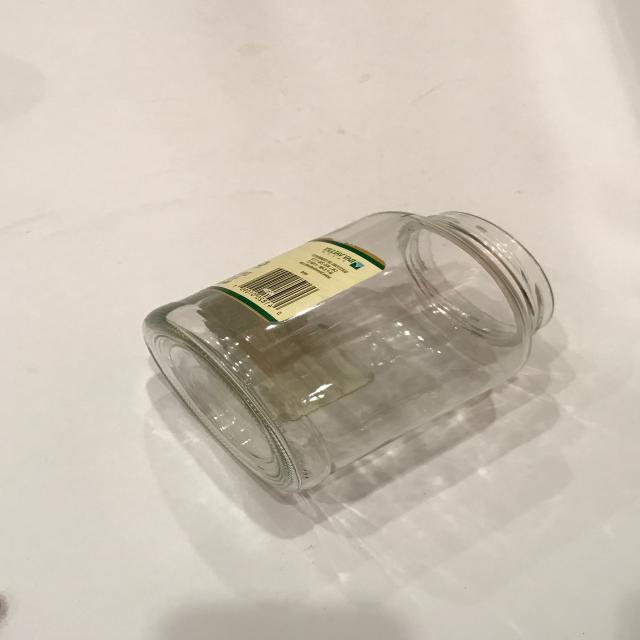glass: (141, 202, 555, 502)
